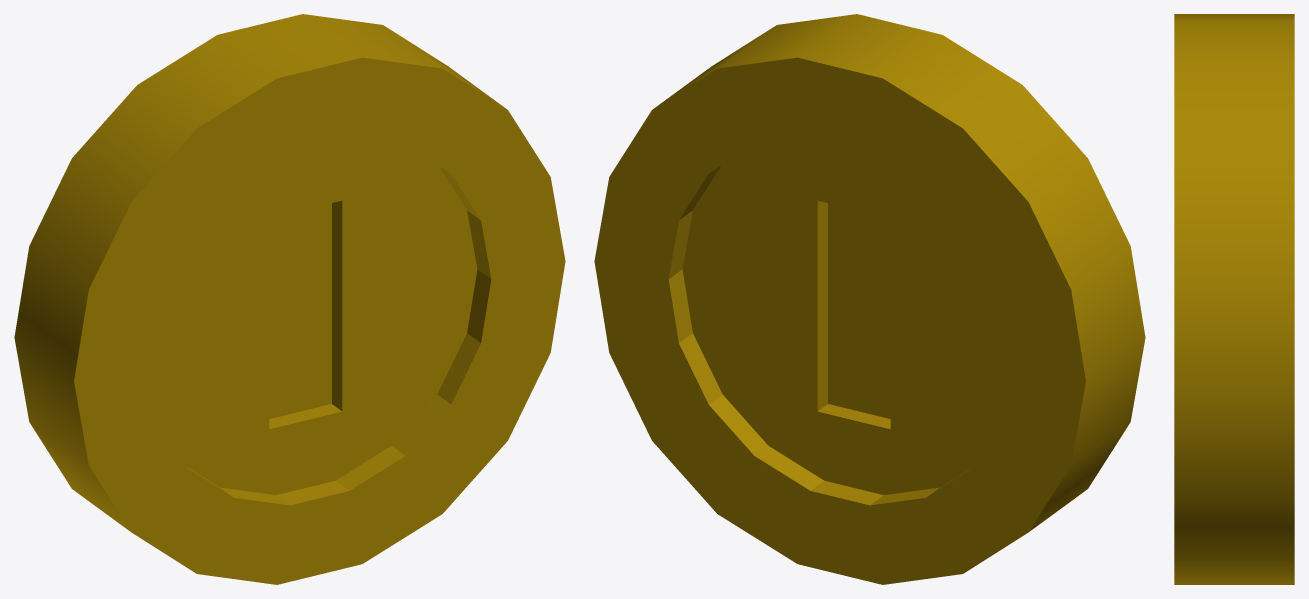
The model's file is Coin.FBX.
3 renders of one model, left to right at view 1: azimuth 30°, elevation 25°; view 2: azimuth 150°, elevation 25°; view 3: azimuth 270°, elevation 25°, orthographic.
Parts seen in each view (by area): view 1: Cylinder007; view 2: Cylinder007; view 3: Cylinder007.
Boxes of the visible parts, <box> form: Cylinder007: <box>14,14,565,584</box>; Cylinder007: <box>594,14,1145,584</box>; Cylinder007: <box>1174,14,1294,584</box>.
Bounding box in the file's own units: 19.93 × 19.63 × 4.18.
